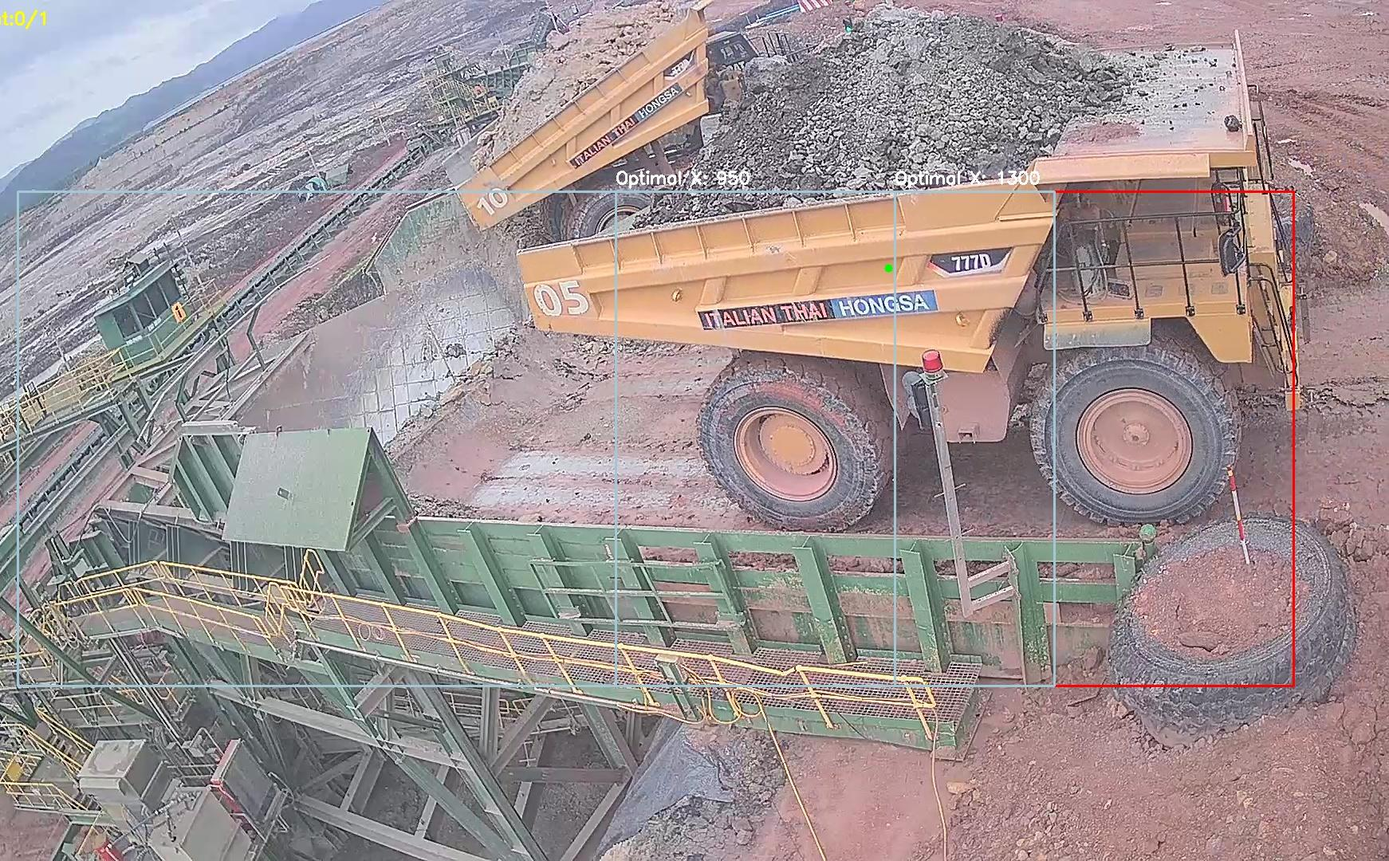company: (687, 286, 950, 331)
full_load: (737, 7, 1041, 216)
mining_truck: (516, 0, 1326, 525)
tail_number: (529, 272, 595, 326)
truck_size: (923, 245, 1015, 278)
